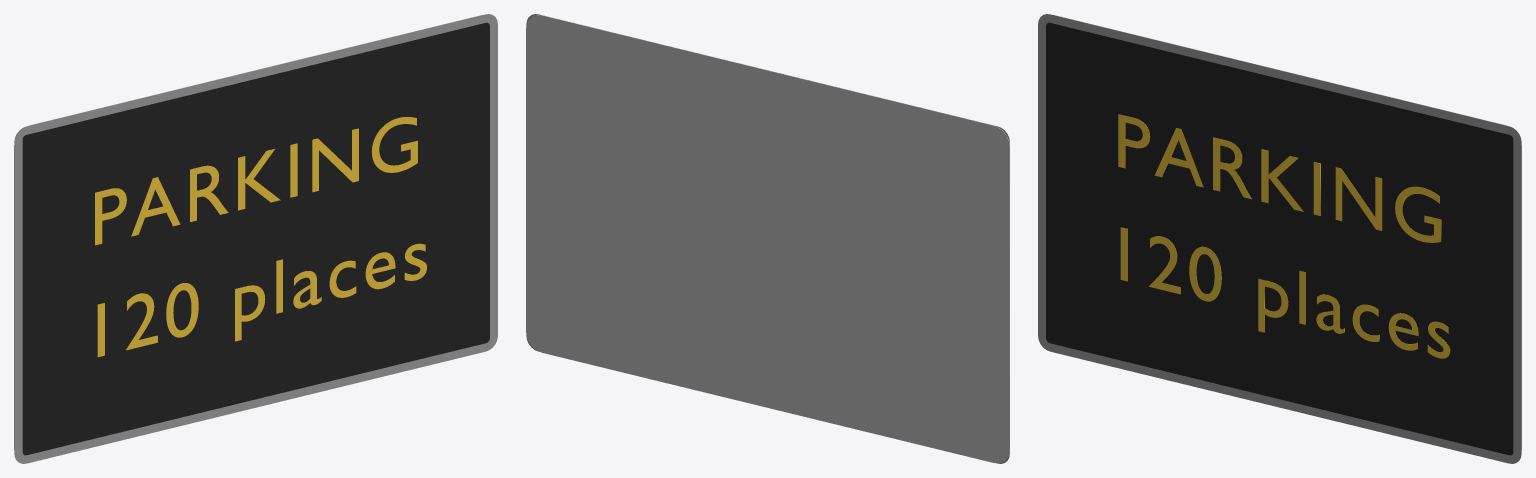
File: XCE45.glb
3 views of the same model, side by side, from view 1: azimuth 30°, elevation 25°; view 2: azimuth 150°, elevation 25°; view 3: azimuth 330°, elevation 25° (orthographic).
Visible parts, largest first — view 1: XCE45_fond01, XCE45_cadre00, XCE45_txt02, XCE45_txt03, XCE45_dos; view 2: XCE45_dos, XCE45_cadre00; view 3: XCE45_fond01, XCE45_cadre00, XCE45_txt02, XCE45_txt03, XCE45_dos.
Part boxes in pixels (box(x1,y1,x2,y2)): XCE45_fond01: box(22, 22, 489, 455); XCE45_cadre00: box(14, 14, 497, 463); XCE45_txt02: box(95, 117, 417, 245); XCE45_txt03: box(97, 243, 427, 357); XCE45_dos: box(14, 15, 481, 449); XCE45_dos: box(526, 15, 1009, 463); XCE45_cadre00: box(526, 14, 1009, 463); XCE45_fond01: box(1046, 22, 1513, 455); XCE45_cadre00: box(1038, 14, 1521, 463); XCE45_txt02: box(1118, 114, 1441, 242); XCE45_txt03: box(1120, 227, 1450, 358); XCE45_dos: box(1054, 15, 1521, 449).
Size of the model in its own units: 1.2 by 0.8 by 0.0029.
